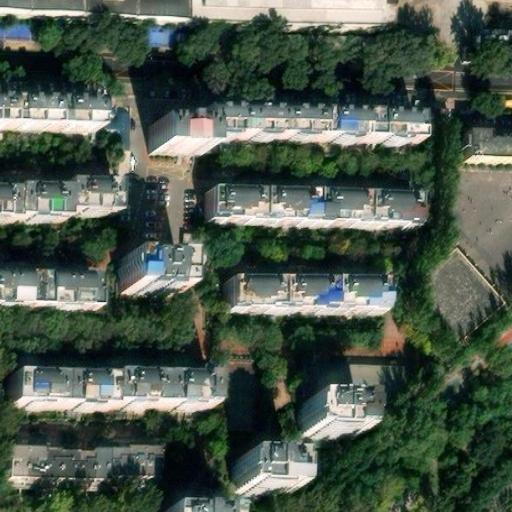building: (205, 191, 419, 231), (11, 369, 218, 410), (208, 114, 418, 150), (431, 252, 509, 342), (226, 277, 386, 315), (7, 446, 164, 484), (0, 187, 110, 228), (0, 273, 105, 308), (123, 259, 186, 296), (304, 399, 363, 436), (239, 457, 295, 495), (155, 121, 209, 152), (461, 134, 512, 166), (331, 362, 387, 386), (102, 110, 130, 148), (479, 28, 512, 50), (0, 22, 40, 38), (145, 29, 181, 46)
